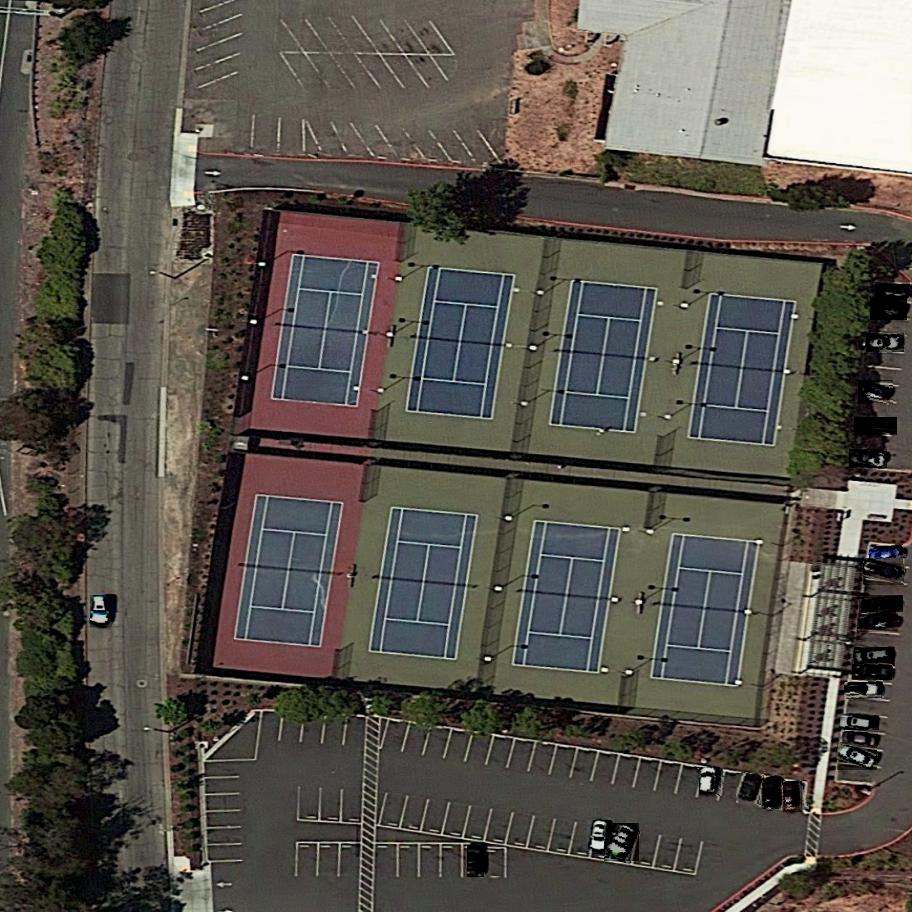small-vehicle: (605, 822, 640, 861), (862, 558, 906, 587), (837, 742, 878, 771), (737, 772, 766, 806), (858, 610, 900, 633), (858, 380, 893, 405), (870, 297, 908, 320), (587, 819, 612, 853), (853, 417, 898, 435), (859, 595, 903, 613), (855, 648, 895, 667), (847, 450, 887, 469), (866, 333, 904, 351), (869, 546, 906, 564), (845, 683, 882, 700), (763, 776, 782, 809), (91, 596, 111, 626), (783, 782, 803, 812), (842, 732, 879, 748), (853, 664, 892, 679), (838, 717, 879, 730), (468, 846, 485, 877), (700, 768, 719, 795), (875, 284, 909, 298)
